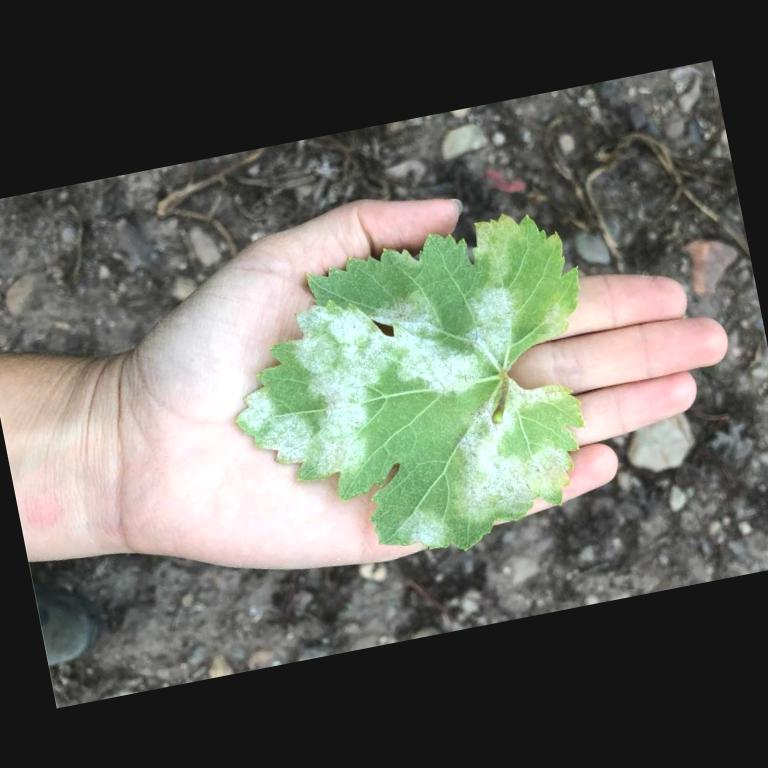powdery-mildew: (291, 330, 399, 464), (382, 290, 506, 394), (442, 420, 538, 515)
